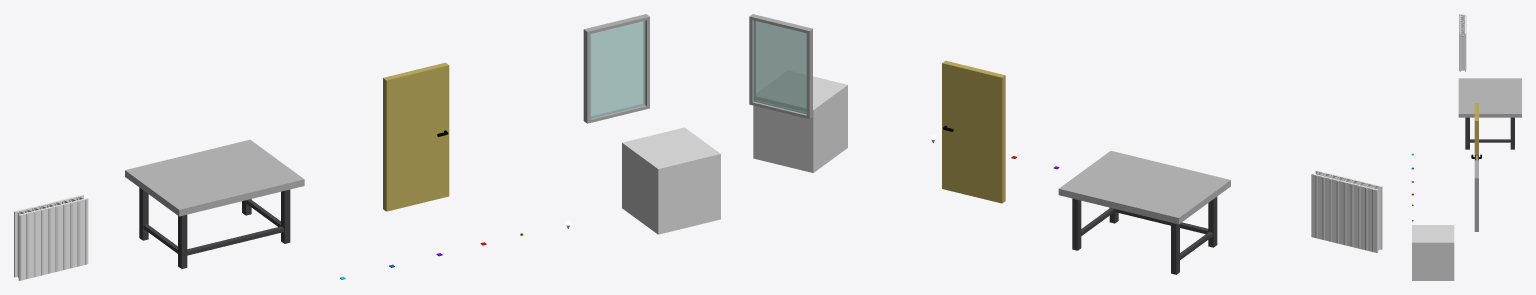
The model's file is roomobjects.glb.
The picture shows the model from 3 angles, left to right: view 1: azimuth 30°, elevation 25°; view 2: azimuth 150°, elevation 25°; view 3: azimuth 270°, elevation 25°; orthographic projection. The views are drawn at different scales.
Visible parts, largest first — view 1: _Table, _Door, _customobject, _Window, _Heater; view 2: _Table, _Door, _customobject, _Window, _Heater; view 3: _Table, _customobject, _Heater, _Window, _Door.
Boxes of the visible parts, left/top/right/bottom form: _Table: left=125, top=139, right=304, bottom=268; _Door: left=383, top=62, right=449, bottom=211; _customobject: left=622, top=127, right=720, bottom=234; _Window: left=583, top=14, right=649, bottom=123; _Heater: left=14, top=194, right=88, bottom=280; _Table: left=1058, top=151, right=1230, bottom=274; _Door: left=942, top=60, right=1005, bottom=203; _customobject: left=753, top=70, right=847, bottom=172; _Window: left=749, top=14, right=812, bottom=118; _Heater: left=1311, top=170, right=1382, bottom=252; _Table: left=1458, top=78, right=1521, bottom=149; _customobject: left=1412, top=225, right=1454, bottom=280; _Heater: left=1459, top=14, right=1466, bottom=71; _Window: left=1474, top=160, right=1478, bottom=231; _Door: left=1471, top=103, right=1481, bottom=160.
Bounding box in the file's own units: 10.54 × 2.56 × 2.63.
